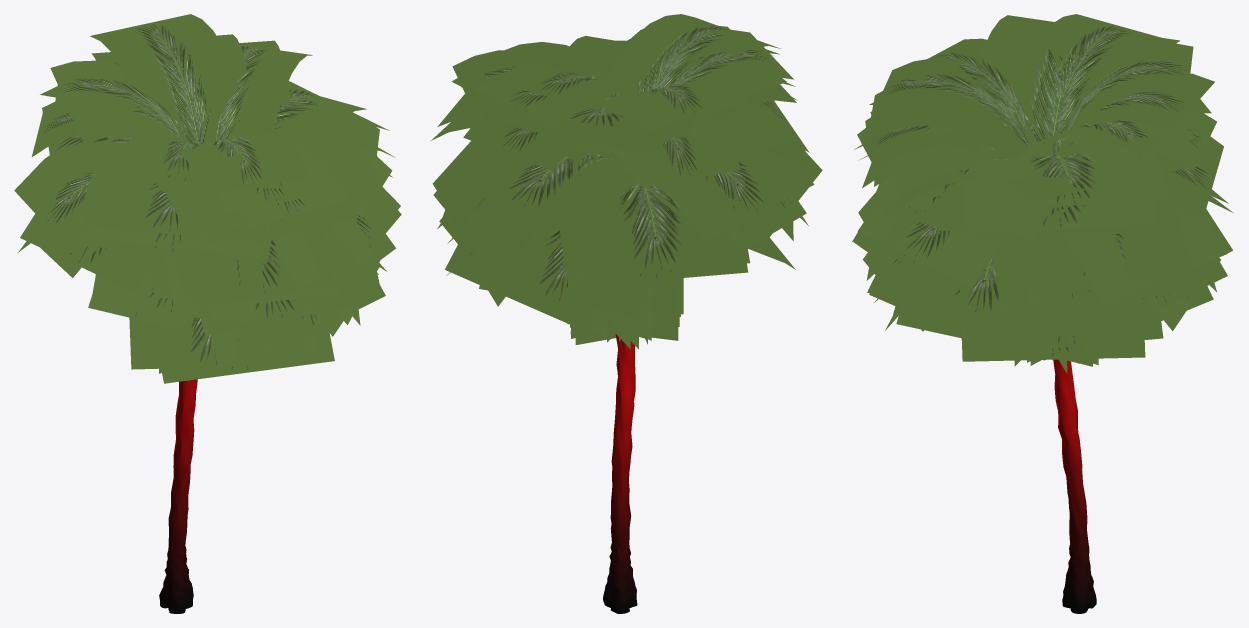
File: Palm_1_14.fbx
3 renders of one model, left to right at view 1: azimuth 30°, elevation 25°; view 2: azimuth 150°, elevation 25°; view 3: azimuth 270°, elevation 25°, orthographic.
Parts seen in each view (by area): view 1: Palm_1_14; view 2: Palm_1_14; view 3: Palm_1_14.
Boxes of the visible parts, <box> form: Palm_1_14: <box>14,14,401,613</box>; Palm_1_14: <box>431,14,822,613</box>; Palm_1_14: <box>852,14,1233,613</box>.
Size of the model in its own units: 1752 by 2738 by 1734.
